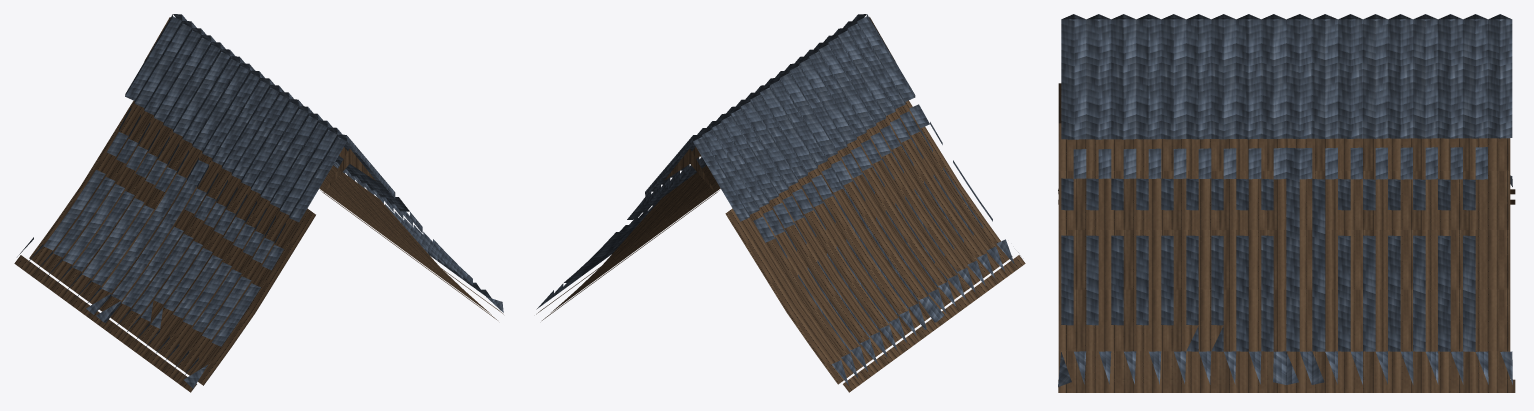
The model's file is Roof_Slate_8x8_LOD1.gltf.
3 renders of one model, left to right at view 1: azimuth 30°, elevation 25°; view 2: azimuth 150°, elevation 25°; view 3: azimuth 270°, elevation 25°, orthographic. The views are drawn at different scales.
Visible parts, largest first — view 1: Roof_Slate_8x8_LOD1; view 2: Roof_Slate_8x8_LOD1; view 3: Roof_Slate_8x8_LOD1.
Boxes of the visible parts, left/top/right/bottom form: Roof_Slate_8x8_LOD1: left=14, top=14, right=503, bottom=392; Roof_Slate_8x8_LOD1: left=536, top=14, right=1025, bottom=392; Roof_Slate_8x8_LOD1: left=1058, top=14, right=1515, bottom=392.
Size of the model in its own units: 9.95 by 6.54 by 9.71.
2 materials, 2 textured.
